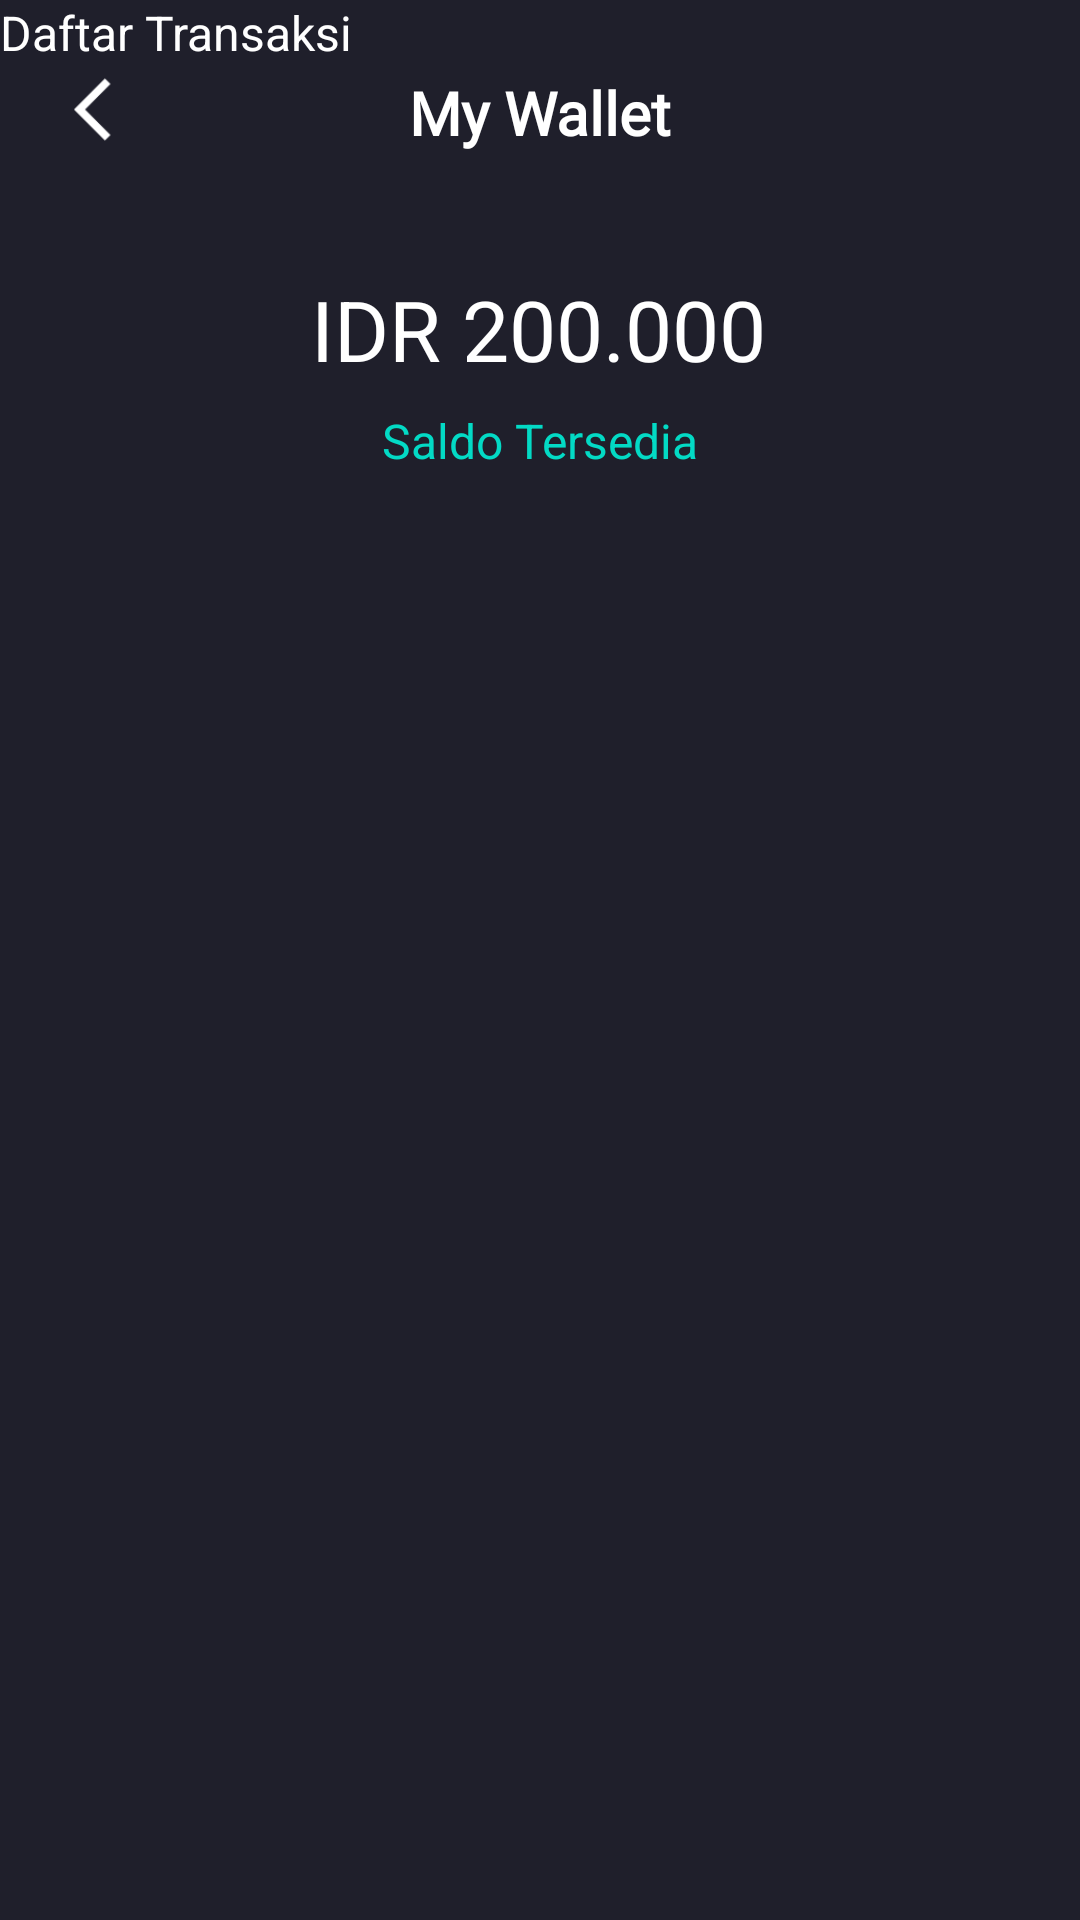

Screen size 1080px x 1920px. Icon name, then its box in pixels as box(x1, y1, x2, y2):
arrow back: box(74, 78, 111, 141)
